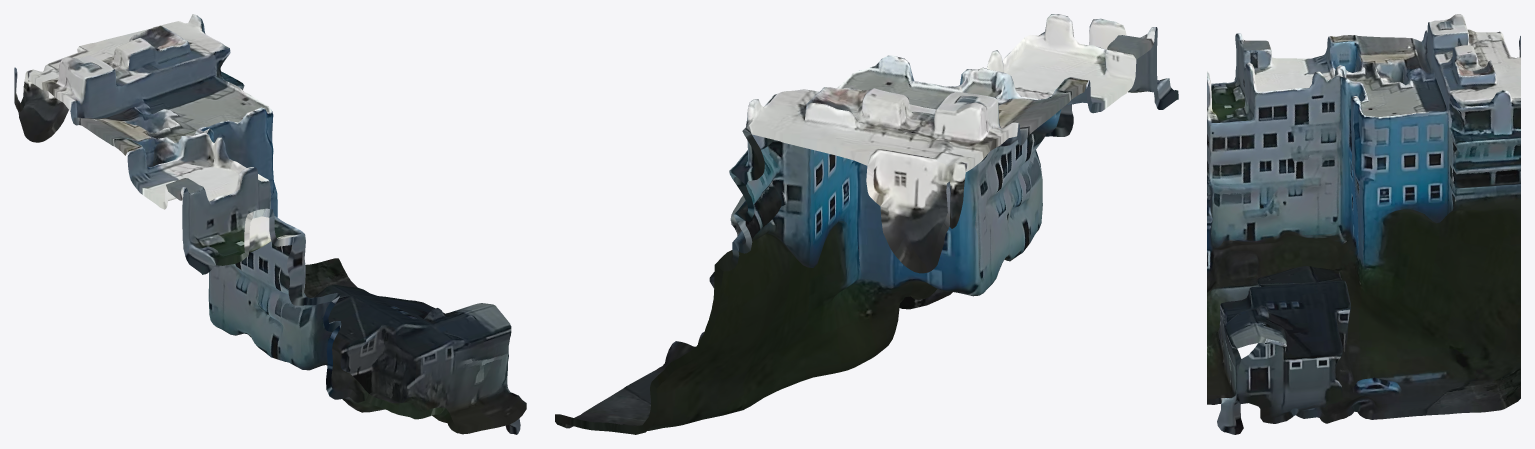
File: z20-167718-405198-h0-yup-uvflip-v3-world.glb
3 renders of one model, left to right at view 1: azimuth 30°, elevation 25°; view 2: azimuth 150°, elevation 25°; view 3: azimuth 270°, elevation 25°, orthographic. The views are drawn at different scales.
Size of the model in its own units: 30.2 by 31.4 by 30.32.
Materials: 1 (1 with a texture image).
